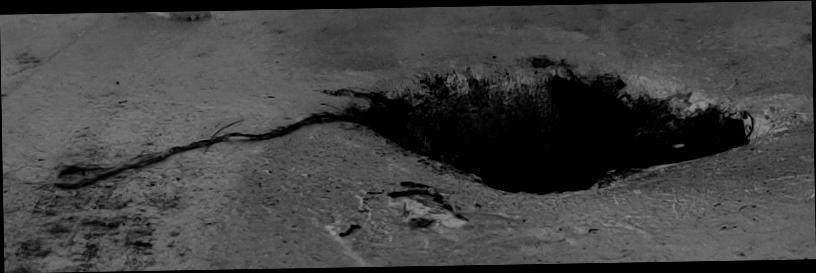crack: (1, 0, 816, 273)
